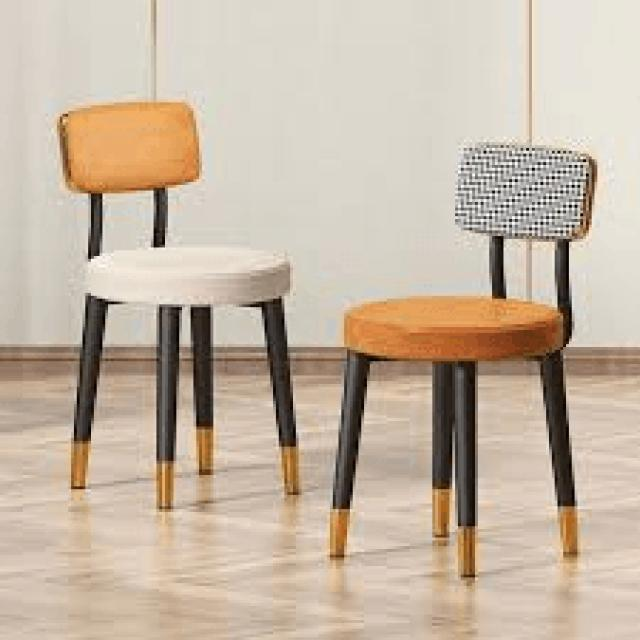chair: (325, 132, 600, 586), (53, 96, 304, 516), (351, 140, 591, 328), (82, 95, 288, 278)
